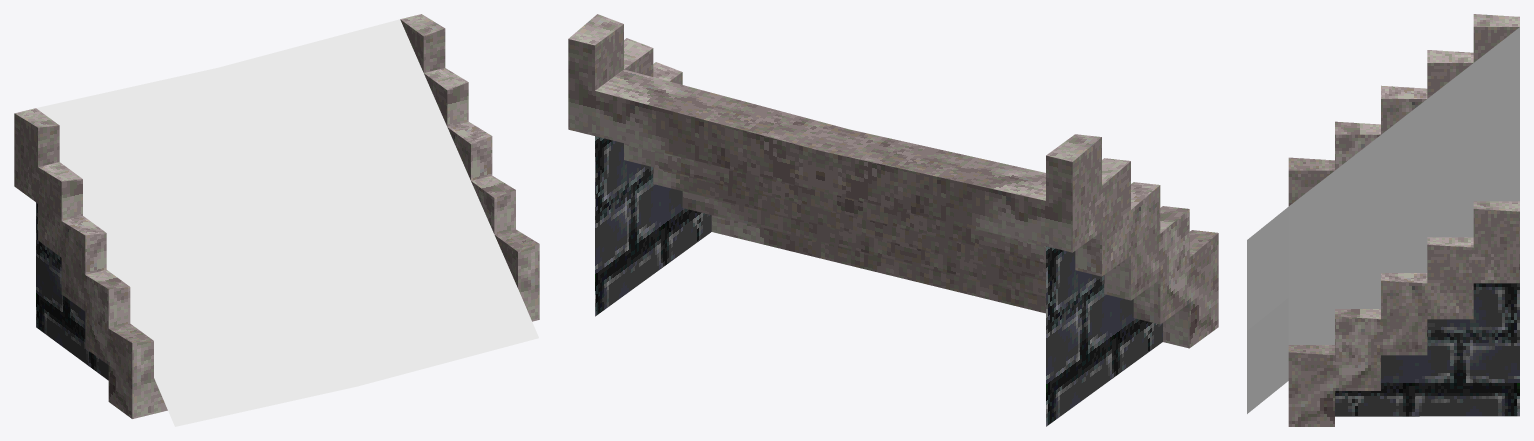
The model's file is stairs_1m_01.gltf.
The picture shows the model from 3 angles, left to right: view 1: azimuth 30°, elevation 25°; view 2: azimuth 150°, elevation 25°; view 3: azimuth 270°, elevation 25°; orthographic projection. The views are drawn at different scales.
Parts seen in each view (by area): view 1: colplane-colonly.006, stairs_1m_01; view 2: stairs_1m_01; view 3: colplane-colonly.006, stairs_1m_01.
Boxes of the visible parts, bbox=[...] form: colplane-colonly.006: bbox=[36, 19, 538, 426]; stairs_1m_01: bbox=[14, 14, 539, 418]; stairs_1m_01: bbox=[568, 14, 1218, 426]; colplane-colonly.006: bbox=[1247, 27, 1519, 413]; stairs_1m_01: bbox=[1288, 14, 1519, 426].
Size of the model in its own units: 2 by 1.05 by 1.18.
Materials: 1 (1 with a texture image).
